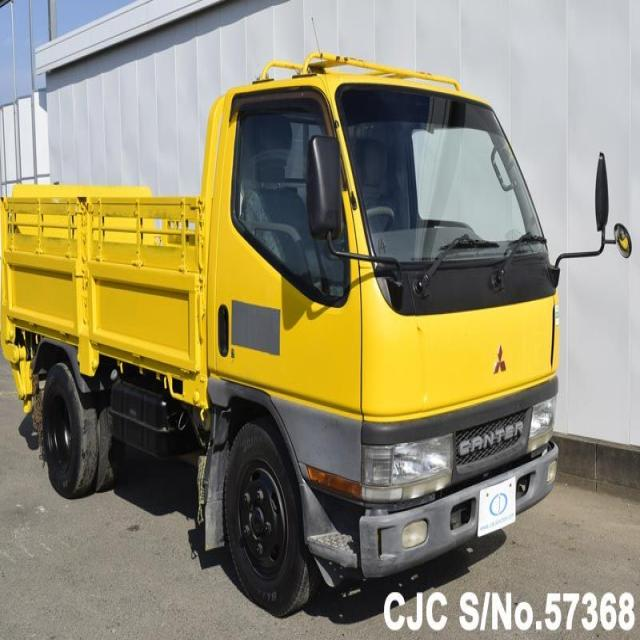truck: (0, 49, 606, 616)
